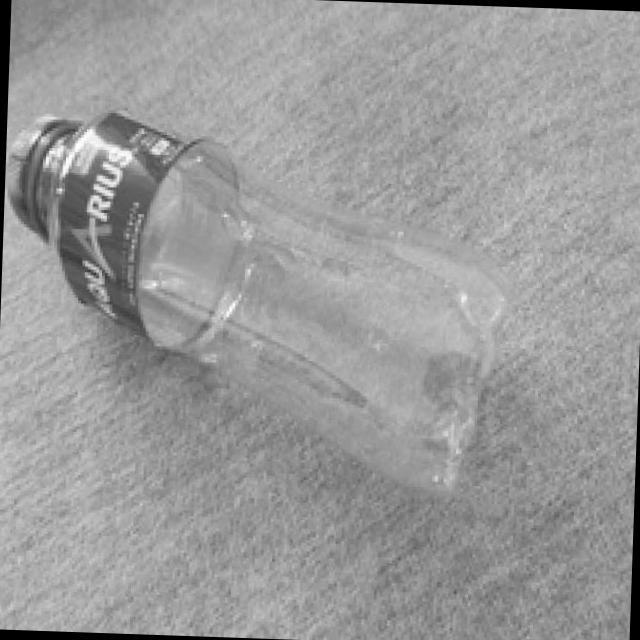good: (0, 90, 515, 499)
